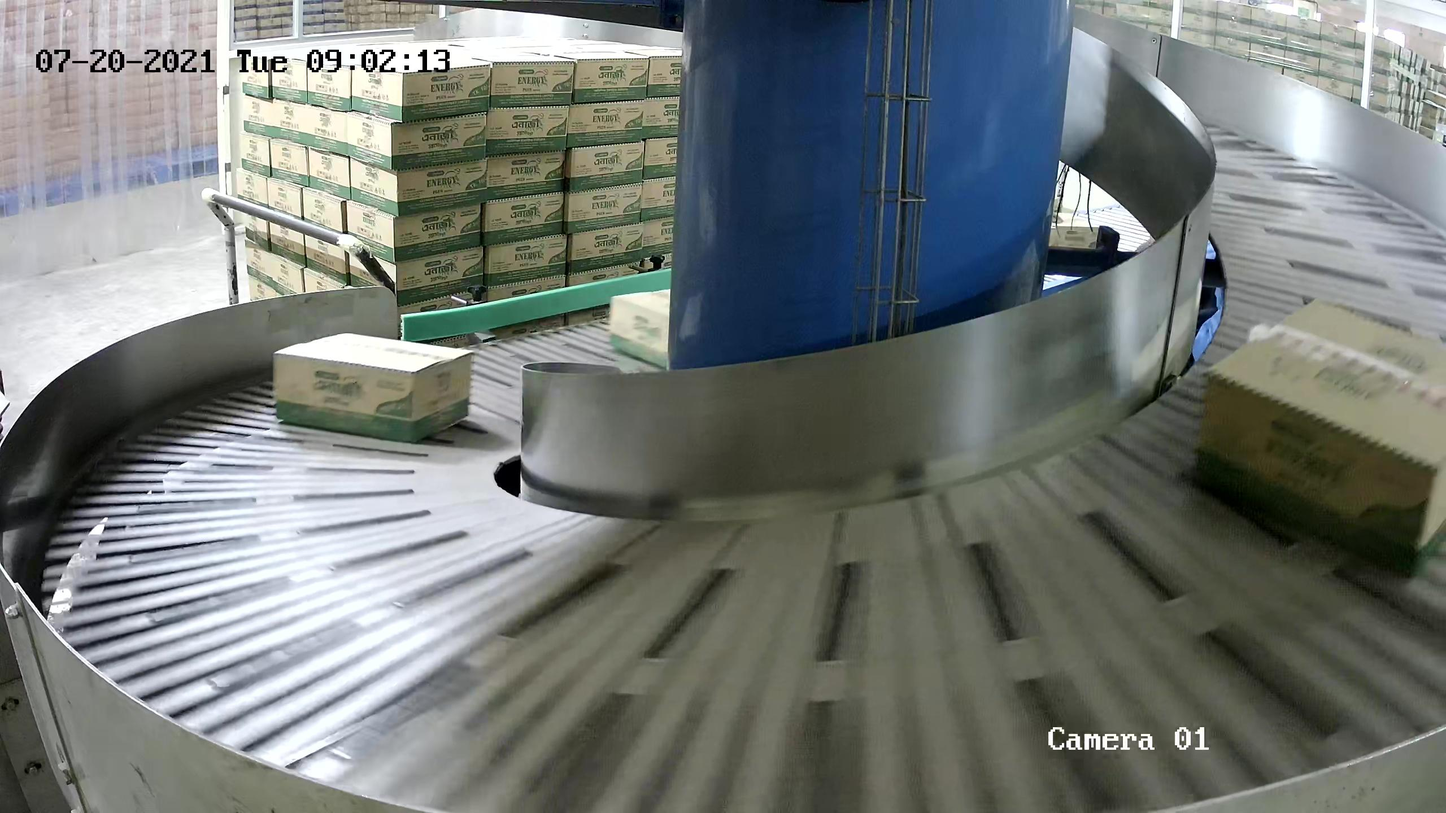Box: (1184, 296, 1446, 583), (272, 330, 474, 445), (610, 282, 740, 370)
